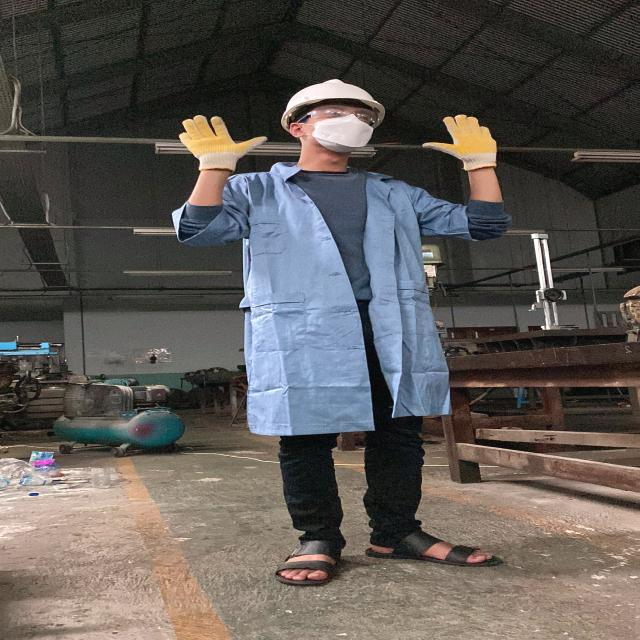face_mask: (302, 102, 383, 149)
glasses: (292, 104, 384, 125)
hand_glove: (172, 114, 276, 174), (420, 113, 502, 171)
head_helmet: (282, 76, 392, 113)
person: (163, 78, 513, 586)
